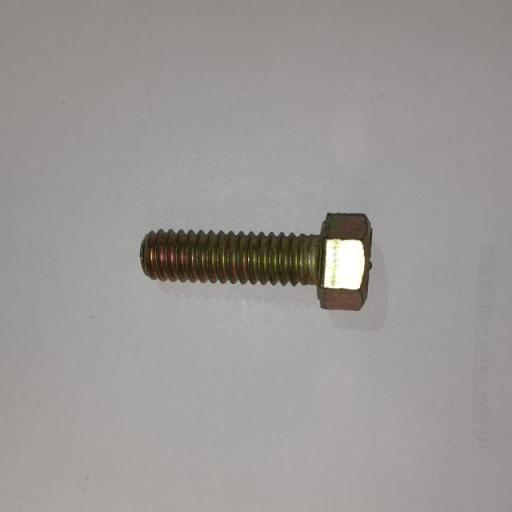Bolt: (139, 212, 373, 311)
